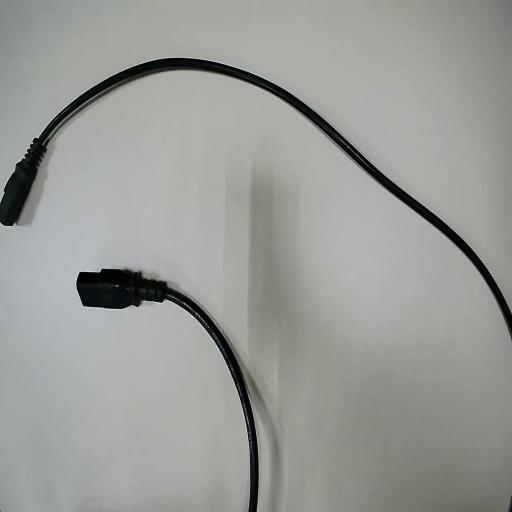wire: (0, 59, 511, 333), (77, 270, 257, 511)
